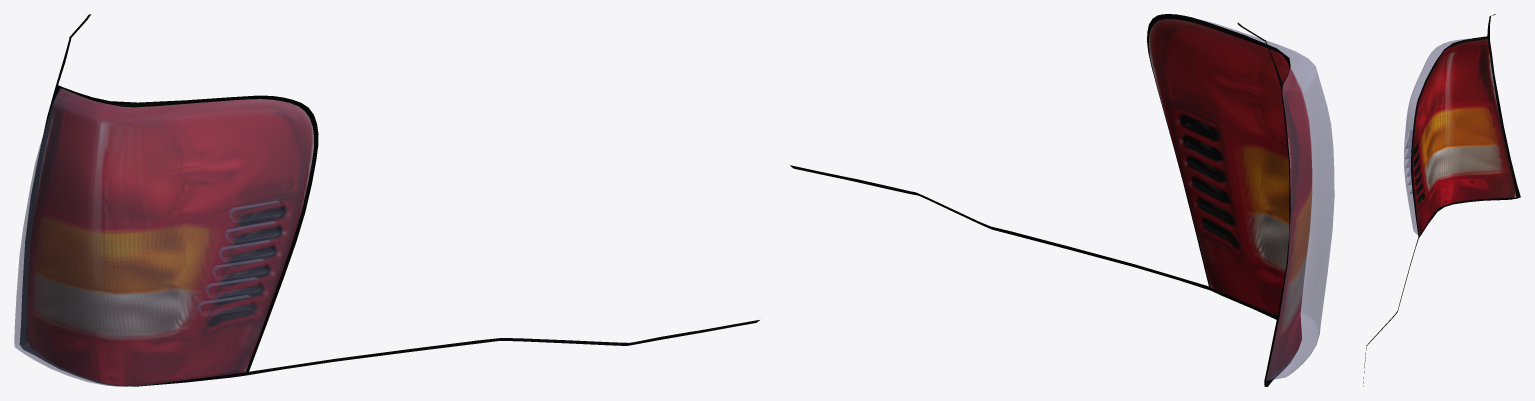
3 views of the same model, side by side, from view 1: azimuth 30°, elevation 25°; view 2: azimuth 150°, elevation 25°; view 3: azimuth 270°, elevation 25° (orthographic). The views are drawn at different scales.
Parts seen in each view (by area): view 1: J731_541C_R_J731_541C_R_2_DTaSI, J731_541C_R_1_N_J731_541C_R, J731_541C_R_J731_541C_R_3_D; view 2: J731_541C_R_1_N_J731_541C_R, J731_541C_R_J731_541C_R_2_DTaSI, J731_541C_R_J731_541C_R_3_D; view 3: J731_541C_R_1_N_J731_541C_R, J731_541C_R_J731_541C_R_3_D, J731_541C_R_J731_541C_R_2_DTaSI.
Boxes of the visible parts, bbox=[...] form: J731_541C_R_J731_541C_R_2_DTaSI: bbox=[14, 88, 313, 386]; J731_541C_R_1_N_J731_541C_R: bbox=[27, 88, 313, 385]; J731_541C_R_J731_541C_R_3_D: bbox=[20, 14, 759, 386]; J731_541C_R_1_N_J731_541C_R: bbox=[1148, 19, 1312, 379]; J731_541C_R_J731_541C_R_2_DTaSI: bbox=[1199, 19, 1334, 380]; J731_541C_R_J731_541C_R_3_D: bbox=[790, 14, 1293, 386]; J731_541C_R_1_N_J731_541C_R: bbox=[1412, 39, 1516, 235]; J731_541C_R_J731_541C_R_3_D: bbox=[1363, 14, 1520, 386]; J731_541C_R_J731_541C_R_2_DTaSI: bbox=[1404, 38, 1469, 234].
Bounding box in the file's own units: 87.11 × 48.01 × 32.13.
